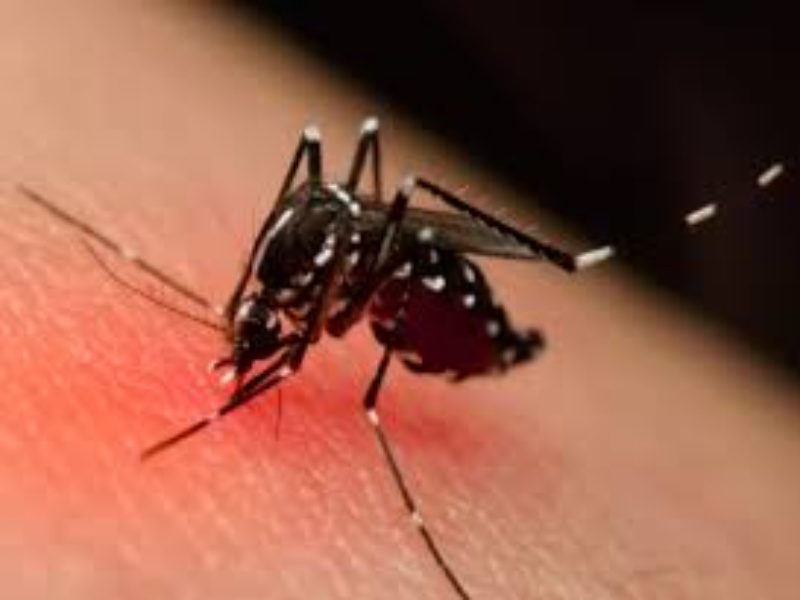dengue_mosquito: (235, 121, 552, 395)
